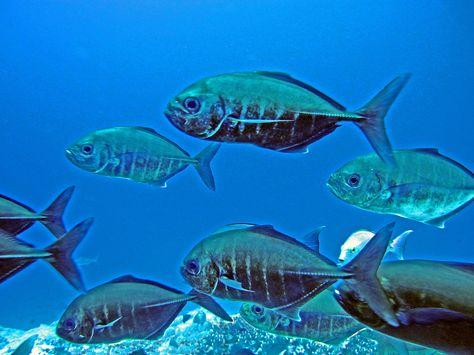fish: (162, 70, 414, 171), (180, 219, 401, 325), (332, 261, 474, 355), (55, 274, 232, 346), (325, 148, 474, 228), (66, 126, 221, 191), (0, 219, 94, 292), (0, 182, 76, 240), (337, 228, 414, 267)
